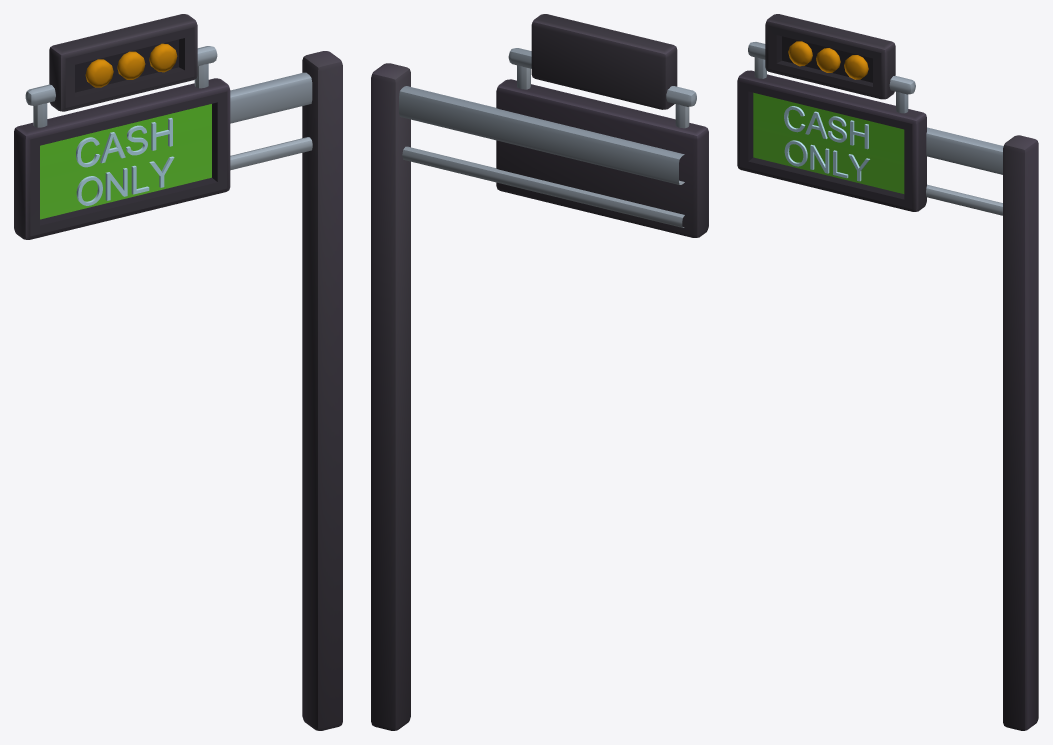
The model's file is Hgs2.fbx.
3 views of the same model, side by side, from view 1: azimuth 30°, elevation 25°; view 2: azimuth 150°, elevation 25°; view 3: azimuth 330°, elevation 25° (orthographic). The views are drawn at different scales.
Parts seen in each view (by area): view 1: Hgs2, Box010, Box011, TextPlus003, Box012; view 2: Hgs2, Box010, Box011, Box012; view 3: Hgs2, Box010, Box011, TextPlus003, Box012.
Boxes of the visible parts, x1,y1,x2,y2 form: Hgs2: (14, 14, 230, 239); Box010: (302, 51, 342, 730); Box011: (230, 72, 312, 123); TextPlus003: (76, 118, 174, 205); Box012: (230, 137, 312, 170); Hgs2: (496, 14, 708, 237); Box010: (371, 63, 410, 730); Box011: (399, 86, 684, 184); Box012: (402, 146, 684, 227); Hgs2: (737, 14, 926, 211); Box010: (1003, 135, 1038, 730); Box011: (926, 127, 1003, 174); TextPlus003: (784, 106, 869, 181); Box012: (926, 184, 1002, 215).
Bounding box in the file's own units: 15.46 × 34.01 × 2.11.
